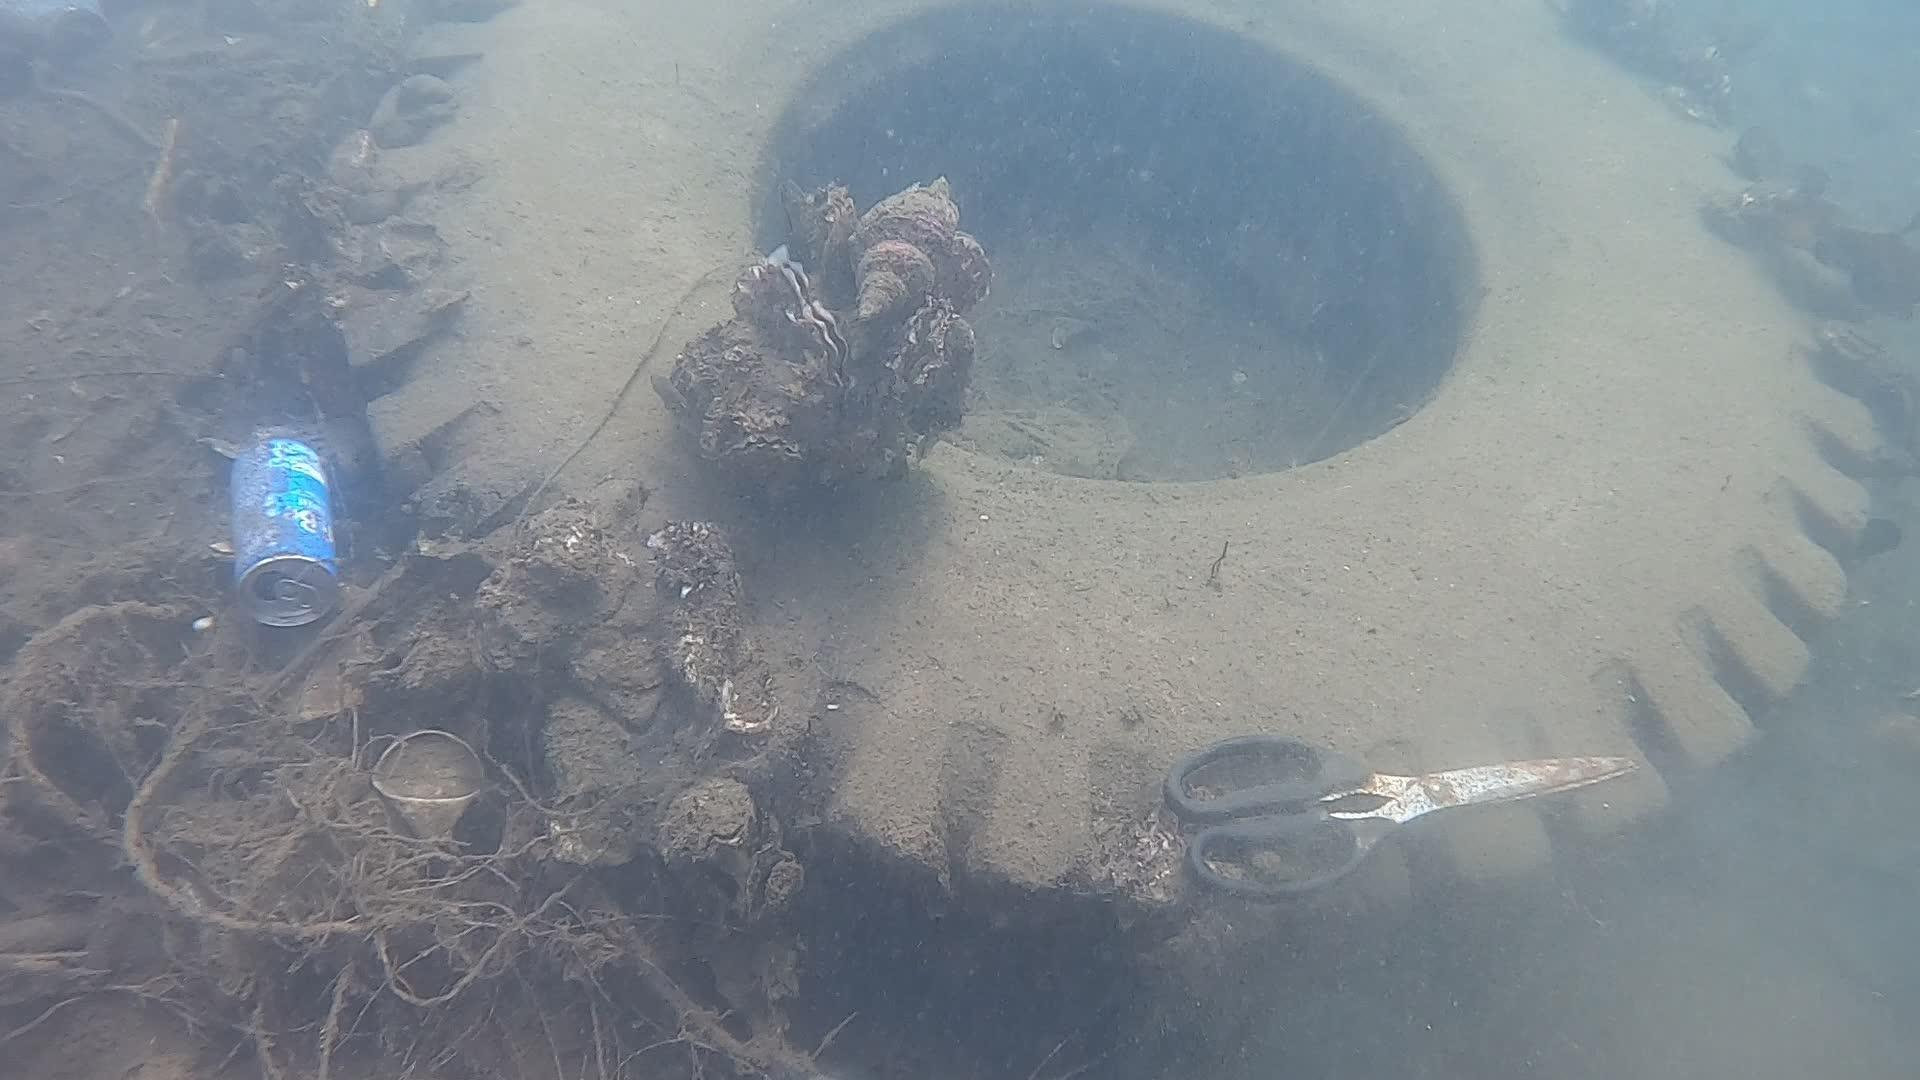tire: (328, 0, 1871, 926)
